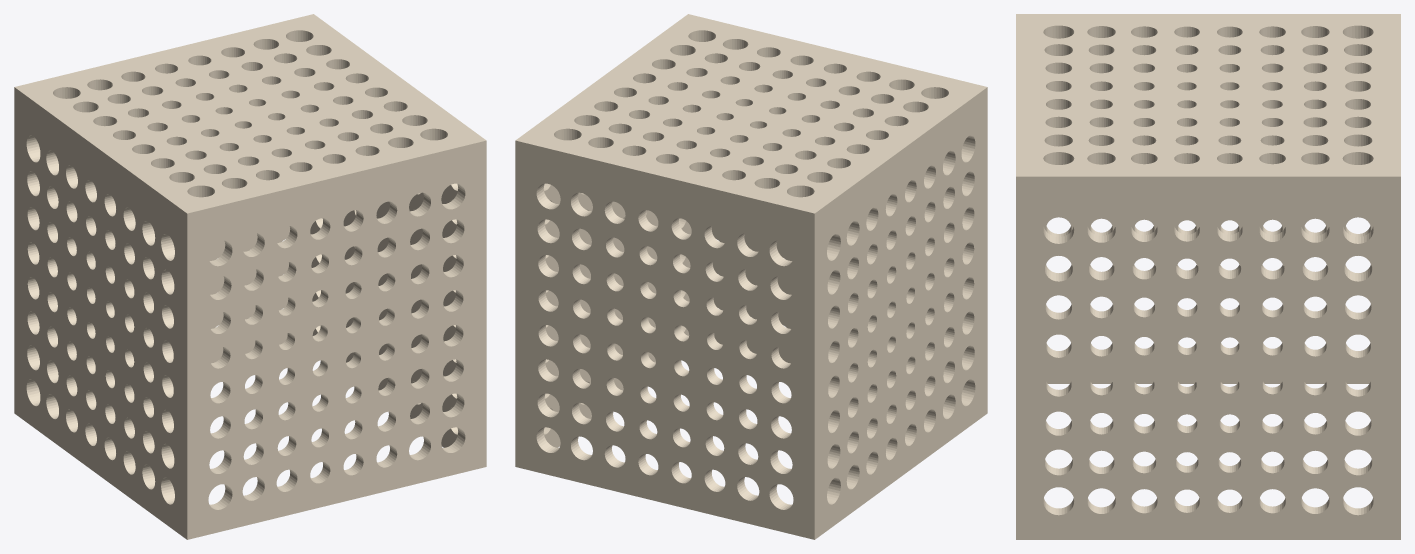
The model's file is stool-opt.glb.
The picture shows the model from 3 angles, left to right: view 1: azimuth 30°, elevation 25°; view 2: azimuth 150°, elevation 25°; view 3: azimuth 270°, elevation 25°; orthographic projection. The views are drawn at different scales.
Visible parts, largest first — view 1: stool; view 2: stool; view 3: stool.
Part boxes in pixels (x1,y1,x2,y2): stool: (14, 14, 486, 539); stool: (515, 14, 987, 539); stool: (1016, 14, 1400, 539).
Bounding box in the file's own units: 1.5 × 1.56 × 1.5.
